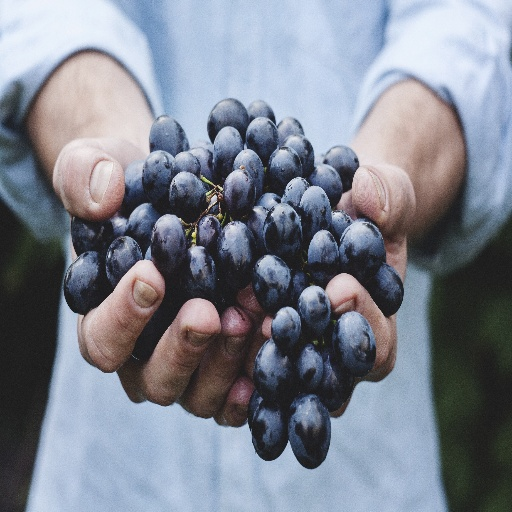hand: (52, 134, 254, 427), (235, 159, 417, 421)
